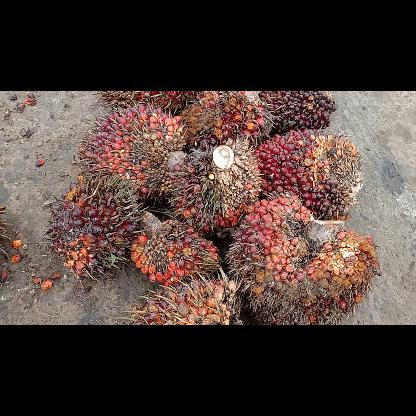TBS masak: (226, 194, 378, 324), (74, 110, 188, 202), (254, 130, 364, 220), (44, 183, 138, 280), (169, 143, 259, 233), (130, 211, 223, 281), (136, 278, 240, 324), (185, 92, 273, 144), (260, 92, 336, 132)
